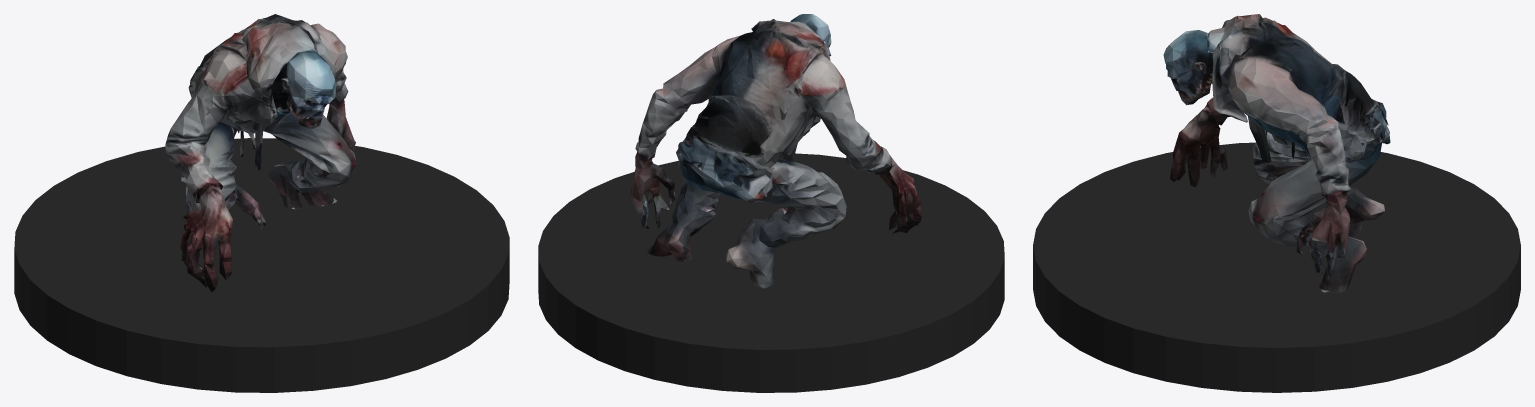
The model's file is zombie-crawler.glb.
The picture shows the model from 3 angles, left to right: view 1: azimuth 30°, elevation 25°; view 2: azimuth 150°, elevation 25°; view 3: azimuth 270°, elevation 25°; orthographic projection. The views are drawn at different scales.
Parts seen in each view (by area): view 1: base, figure; view 2: base, figure; view 3: base, figure.
Boxes of the visible parts, bbox=[...] form: base: bbox=[14, 138, 509, 392]; figure: bbox=[165, 14, 355, 292]; base: bbox=[538, 153, 1004, 392]; figure: bbox=[631, 14, 921, 288]; base: bbox=[1033, 142, 1520, 392]; figure: bbox=[1163, 14, 1390, 293].
Bounding box in the file's own units: 1.18 × 0.72 × 1.18.
Materials: 2 (1 with a texture image).
